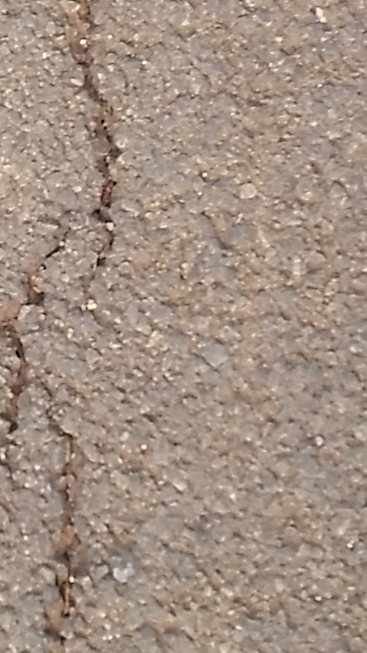A: (3, 1, 125, 643)
